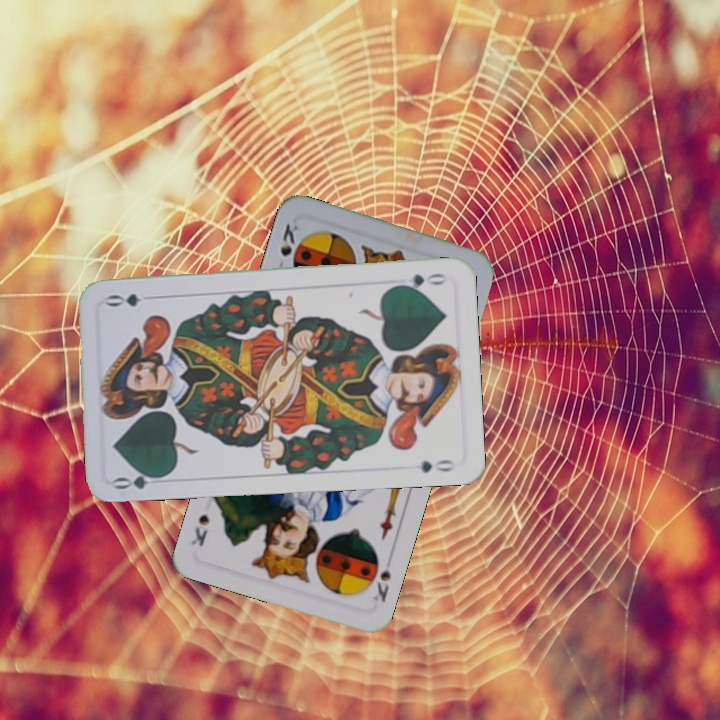GO: (110, 466, 169, 492), (391, 269, 449, 293)
SK: (273, 219, 301, 276), (368, 563, 394, 605)
